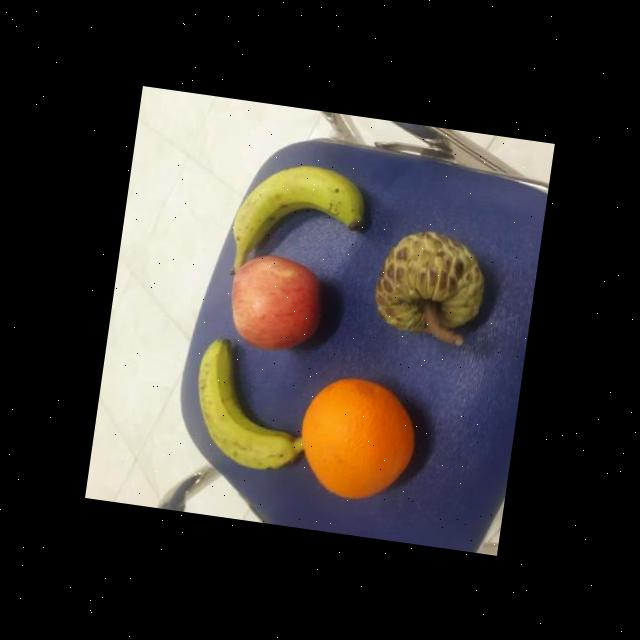Sakya fruit: (368, 225, 491, 341)
apple: (224, 250, 327, 356)
banana: (187, 336, 310, 476), (229, 156, 371, 268)
orange: (293, 372, 423, 507)
